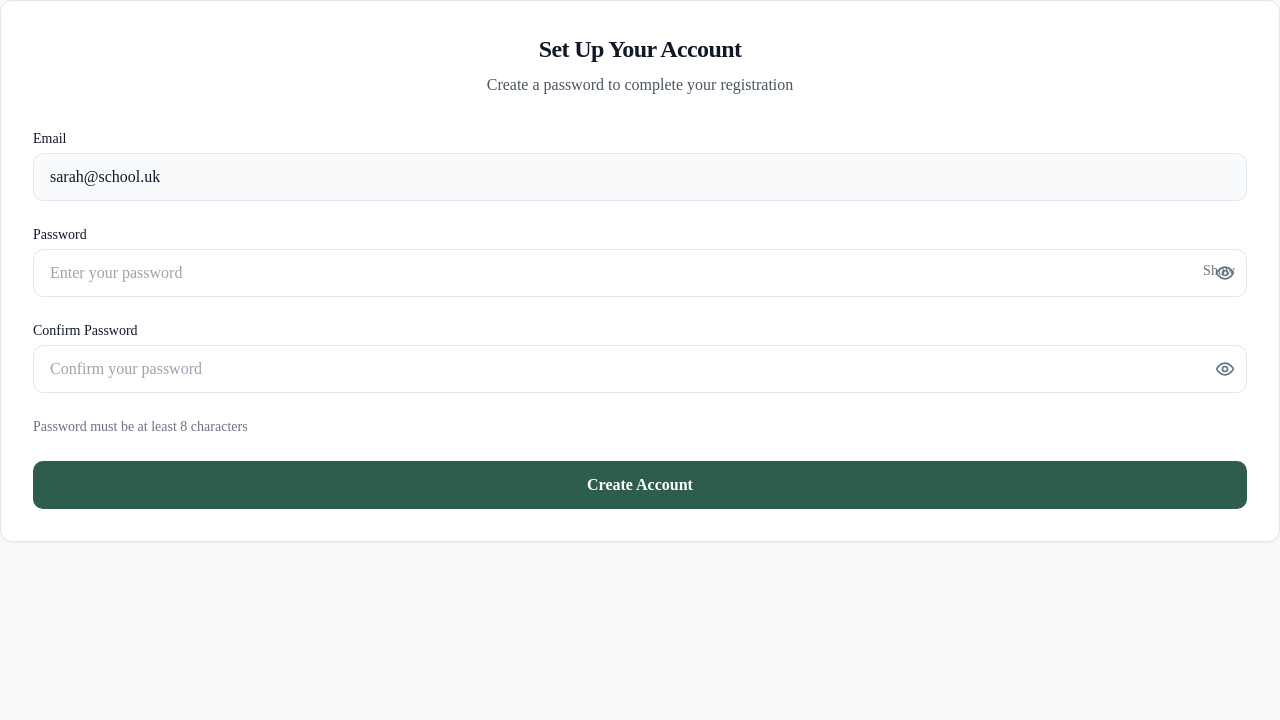
Test: SetupPage › form validation › shows error when passwords do not match
The image size is (1280, 720).
Type "Password123!" into the password field labelled "Password" at (640, 273), box [33,249,1247,297]
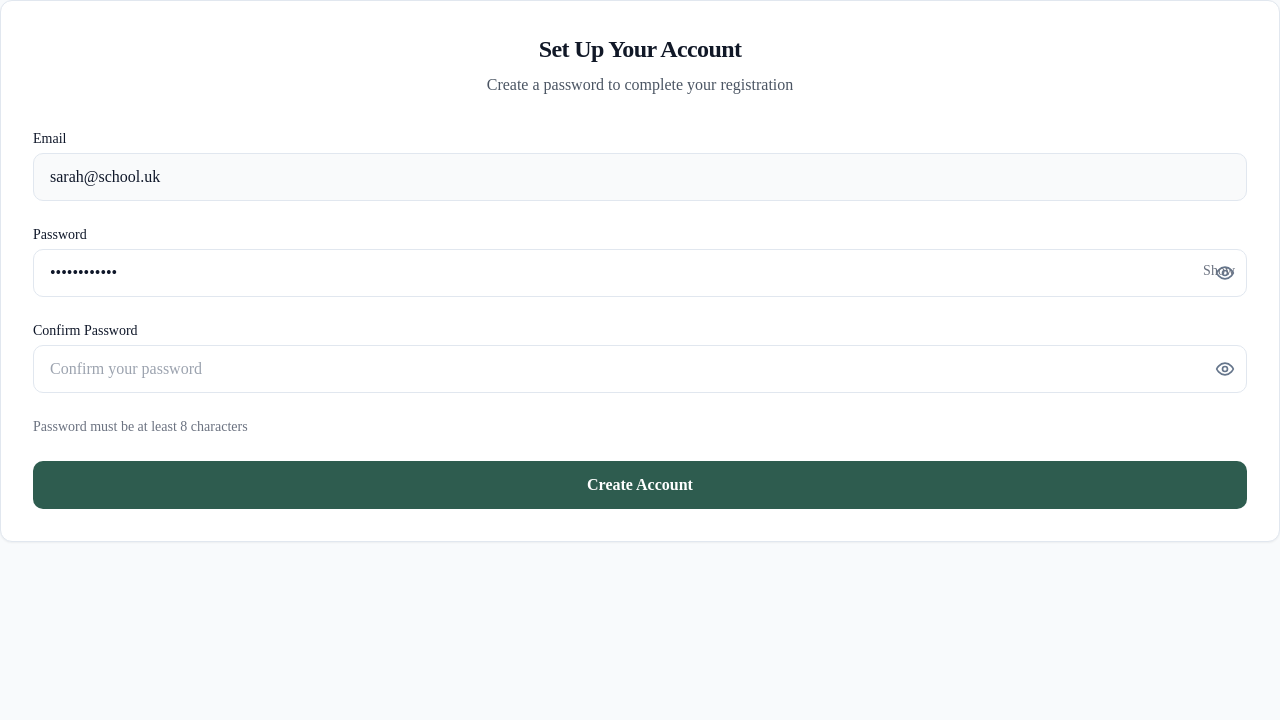
Type "Different123!" into the password field labelled "Confirm Password" at (640, 369), box [33,345,1247,393]
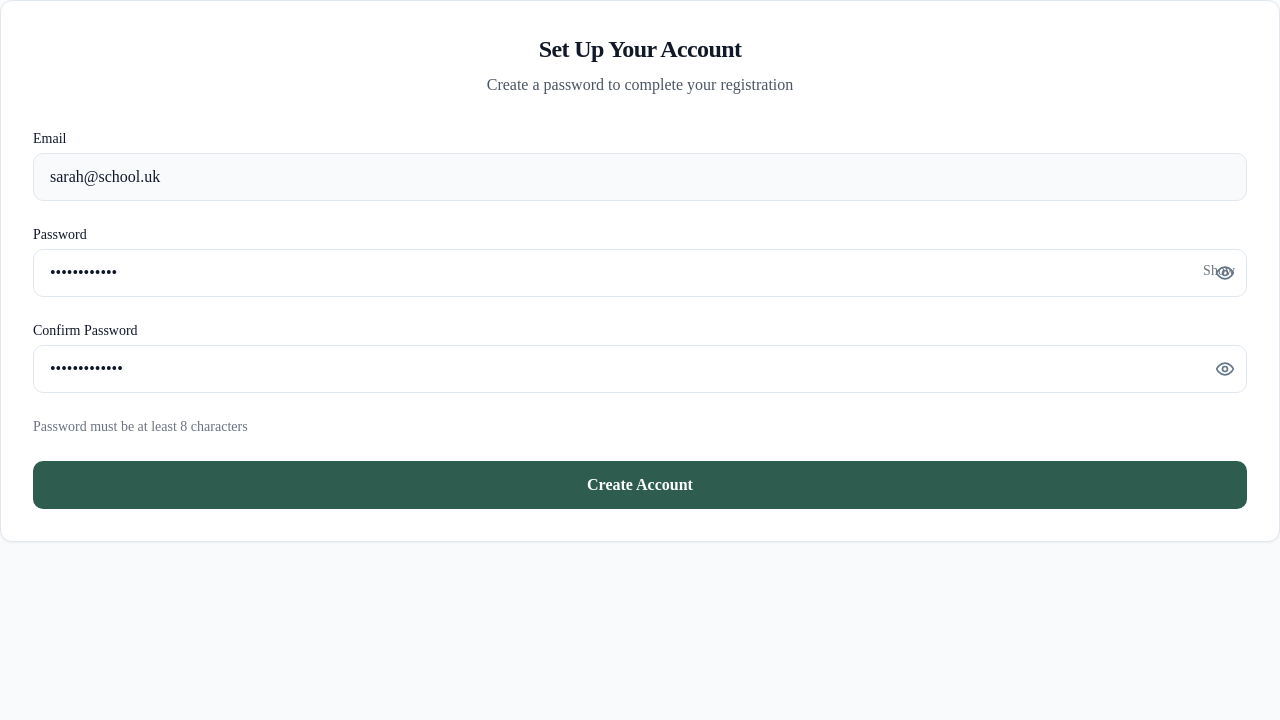
Click the button "Create Account" at (640, 485), box [33,461,1247,509]
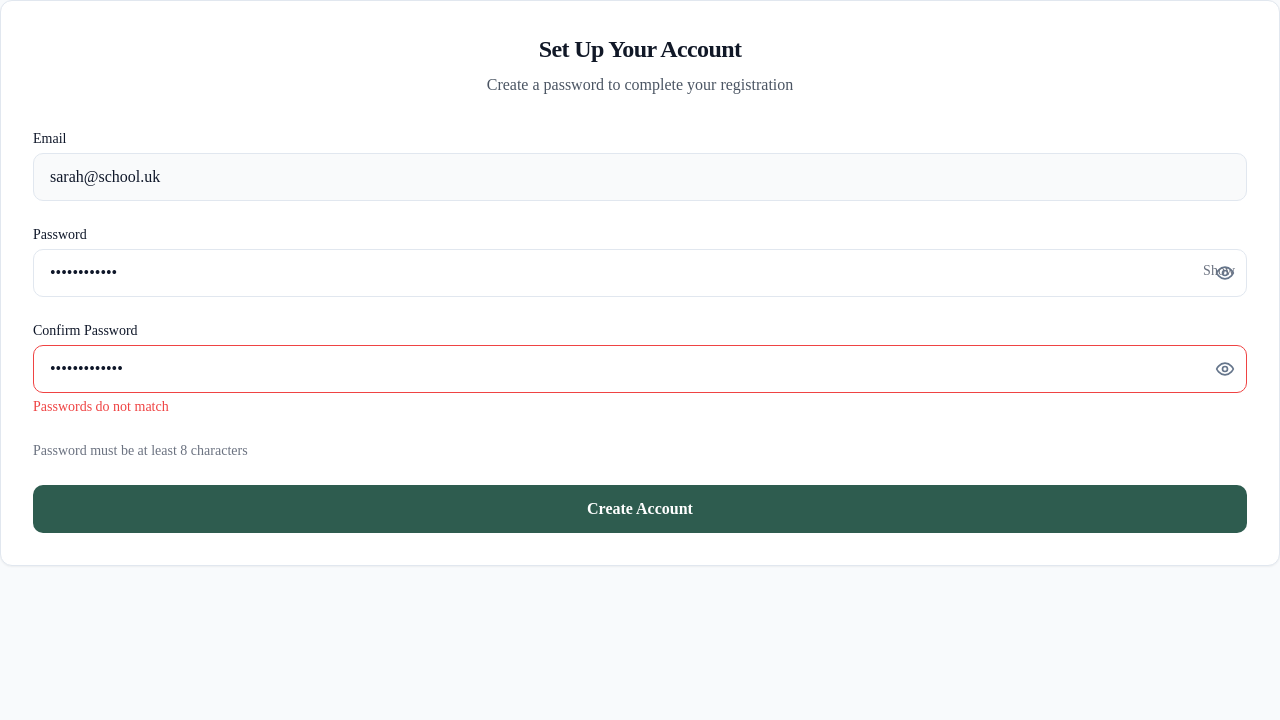
Check: the text "Passwords do not match" is shown, box [33,399,169,414]
